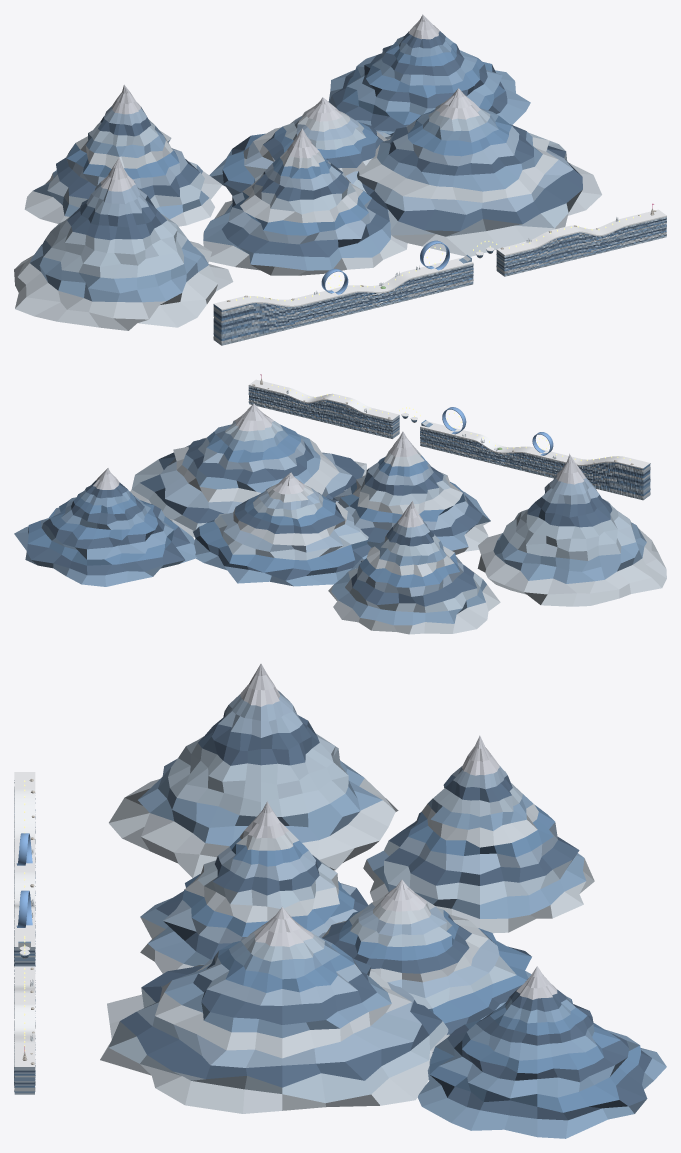
The model's file is nivel5.glb.
3 views of the same model, one above another, from view 1: azimuth 30°, elevation 25°; view 2: azimuth 150°, elevation 25°; view 3: azimuth 270°, elevation 25° (orthographic). The views are drawn at different scales.
Visible parts, largest first — view 1: SM_Fondo_Cerro.004, SM_Fondo_Cerro, SM_Fondo_Cerro.002, SM_Fondo_Cerro.005, SM_Fondo_Cerro.001, SM_Fondo_Cerro.003, SM_Tramo_A, SM_Tramo_B, SM_Tramo_A_Pasto, SM_Tramo_B_Pasto; view 2: SM_Fondo_Cerro, SM_Fondo_Cerro.004, SM_Fondo_Cerro.003, SM_Fondo_Cerro.001, SM_Fondo_Cerro.005, SM_Fondo_Cerro.002, SM_Tramo_A, SM_Tramo_B, SM_Tramo_A_Pasto, SM_Tramo_B_Pasto; view 3: SM_Fondo_Cerro.004, SM_Fondo_Cerro, SM_Fondo_Cerro.005, SM_Fondo_Cerro.001, SM_Fondo_Cerro.002, SM_Fondo_Cerro.003, SM_Tramo_A_Pasto, SM_Tramo_B_Pasto, SM_Tramo_B.
Part boxes in pixels (x1=…): SM_Fondo_Cerro.004: x1=357, y1=88, x2=601, y2=256; SM_Fondo_Cerro: x1=14, y1=157, x2=233, y2=330; SM_Fondo_Cerro.002: x1=203, y1=128, x2=407, y2=275; SM_Fondo_Cerro.005: x1=328, y1=14, x2=530, y2=133; SM_Fondo_Cerro.001: x1=24, y1=84, x2=222, y2=226; SM_Fondo_Cerro.003: x1=209, y1=97, x2=390, y2=195; SM_Tramo_A: x1=213, y1=264, x2=473, y2=345; SM_Tramo_B: x1=496, y1=216, x2=666, y2=276; SM_Tramo_A_Pasto: x1=213, y1=257, x2=473, y2=310; SM_Tramo_B_Pasto: x1=496, y1=209, x2=666, y2=255; SM_Fondo_Cerro: x1=477, y1=454, x2=666, y2=606; SM_Fondo_Cerro.004: x1=130, y1=403, x2=367, y2=537; SM_Fondo_Cerro.003: x1=193, y1=472, x2=371, y2=586; SM_Fondo_Cerro.001: x1=328, y1=501, x2=500, y2=634; SM_Fondo_Cerro.005: x1=14, y1=468, x2=196, y2=586; SM_Fondo_Cerro.002: x1=332, y1=431, x2=490, y2=554; SM_Tramo_A: x1=420, y1=427, x2=650, y2=500; SM_Tramo_B: x1=248, y1=386, x2=399, y2=438; SM_Tramo_A_Pasto: x1=420, y1=422, x2=650, y2=469; SM_Tramo_B_Pasto: x1=248, y1=379, x2=399, y2=420; SM_Fondo_Cerro.004: x1=100, y1=907, x2=449, y2=1113; SM_Fondo_Cerro: x1=109, y1=663, x2=398, y2=877; SM_Fondo_Cerro.005: x1=417, y1=966, x2=666, y2=1138; SM_Fondo_Cerro.001: x1=363, y1=735, x2=594, y2=933; SM_Fondo_Cerro.002: x1=140, y1=801, x2=368, y2=973; SM_Fondo_Cerro.003: x1=319, y1=879, x2=531, y2=1035; SM_Tramo_A_Pasto: x1=14, y1=772, x2=35, y2=946; SM_Tramo_B_Pasto: x1=14, y1=966, x2=35, y2=1066; SM_Tramo_B: x1=14, y1=973, x2=35, y2=1094.
Bounding box in the file's own units: 354 × 69.99 × 258.
